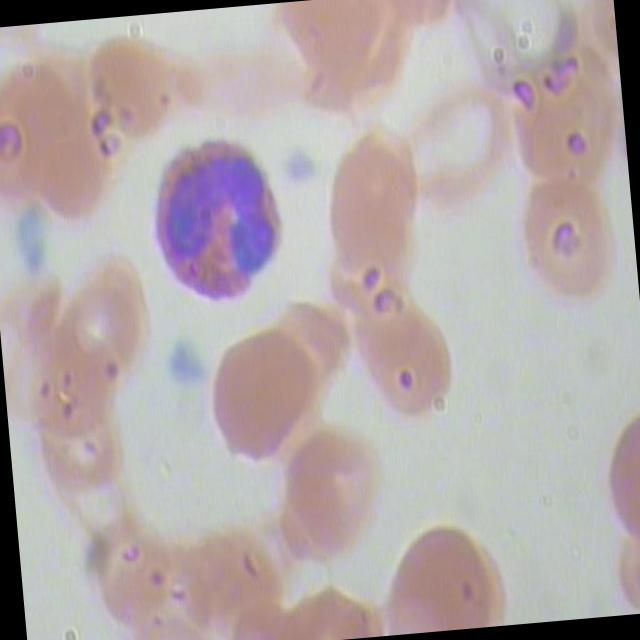Platelets: (168, 340, 208, 390), (281, 143, 323, 188)
RBC: (502, 29, 630, 196), (196, 325, 328, 473), (396, 83, 522, 223), (271, 426, 392, 570), (50, 260, 170, 402), (78, 12, 197, 155), (342, 292, 461, 434), (376, 512, 508, 636), (319, 136, 427, 278), (516, 169, 624, 310), (34, 386, 130, 504), (83, 524, 180, 640)
WBC: (143, 131, 298, 309)
